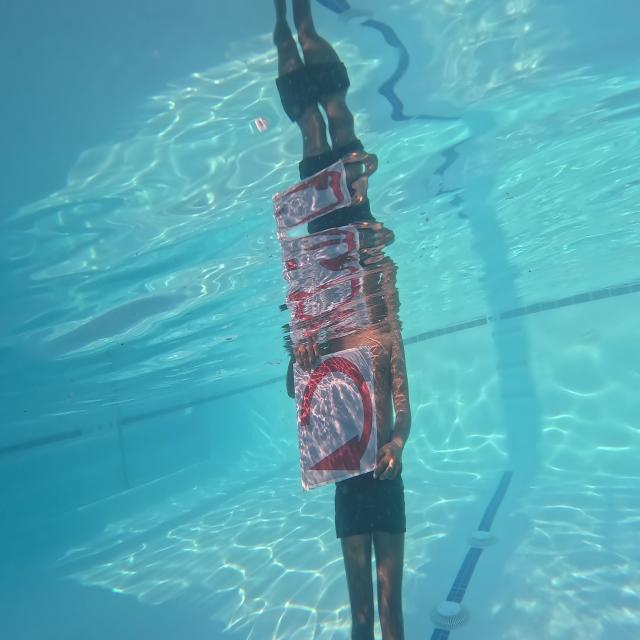red_side: (290, 353, 380, 487)
